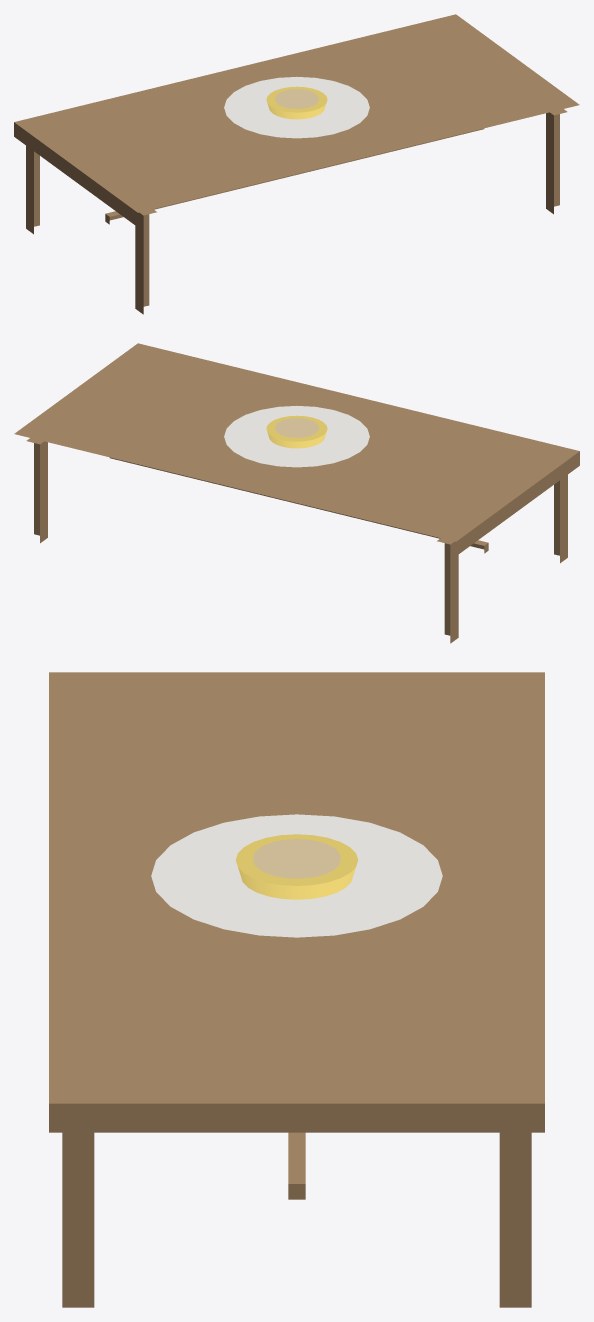
File: arepa_mesa.glb
3 views of the same model, one above another, from view 1: azimuth 30°, elevation 25°; view 2: azimuth 150°, elevation 25°; view 3: azimuth 270°, elevation 25° (orthographic). The views are drawn at different scales.
Parts seen in each view (by area): view 1: tablero, plato, pata (×3), arepa, relleno, refuerzo; view 2: tablero, plato, pata (×3), arepa, relleno, refuerzo; view 3: tablero, plato, pata (×2), arepa, relleno, refuerzo.
Boxes of the visible parts, x1,y1,x2,y2 form: tablero: (14,14,579,226); plato: (224,77,369,138); pata (×3): (26,109,567,314); arepa: (266,86,327,119); relleno: (275,89,318,108); refuerzo: (105,128,484,224); tablero: (14,343,579,555); plato: (224,406,369,467); pata (×3): (26,438,567,643); arepa: (266,415,327,448); relleno: (275,418,318,437); refuerzo: (109,457,488,553); tablero: (49,672,544,1132); plato: (151,814,442,937); pata (×2): (62,1132,531,1307); arepa: (236,834,357,899); relleno: (253,839,340,878); refuerzo: (288,1132,305,1199).
Size of the model in its own units: 7 by 1.84 by 3.4.
